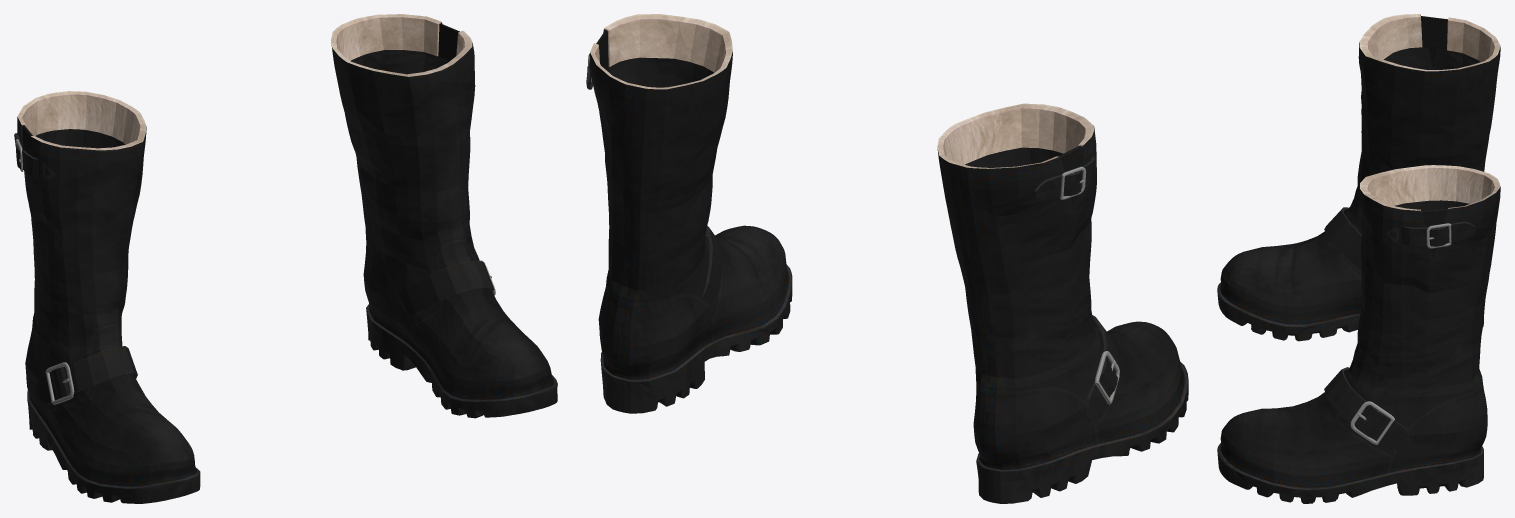
The model's file is mhw_mindfront_shoes_biker_boots_male.glb.
3 views of the same model, side by side, from view 1: azimuth 30°, elevation 25°; view 2: azimuth 150°, elevation 25°; view 3: azimuth 270°, elevation 25° (orthographic). The views are drawn at different scales.
Visible parts, largest first — view 1: mhw_mindfront_shoes_biker_boots_male; view 2: mhw_mindfront_shoes_biker_boots_male; view 3: mhw_mindfront_shoes_biker_boots_male.
Boxes of the visible parts, <box> form: mhw_mindfront_shoes_biker_boots_male: <box>14,14,557,503</box>; mhw_mindfront_shoes_biker_boots_male: <box>586,14,1188,503</box>; mhw_mindfront_shoes_biker_boots_male: <box>1217,14,1500,503</box>.
Bounding box in the file's own units: 0.5519 × 0.3596 × 0.3174.
Materials: 1 (1 with a texture image).
